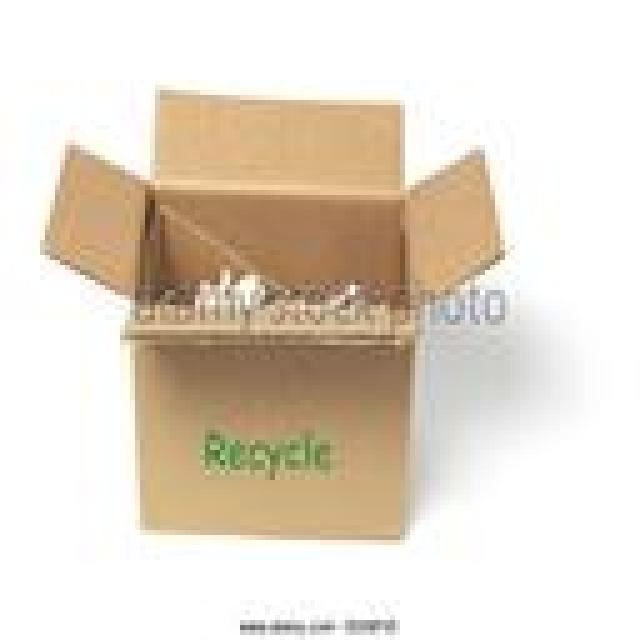cardboard: (35, 80, 500, 535)
paper: (185, 265, 270, 295), (285, 280, 355, 300)
